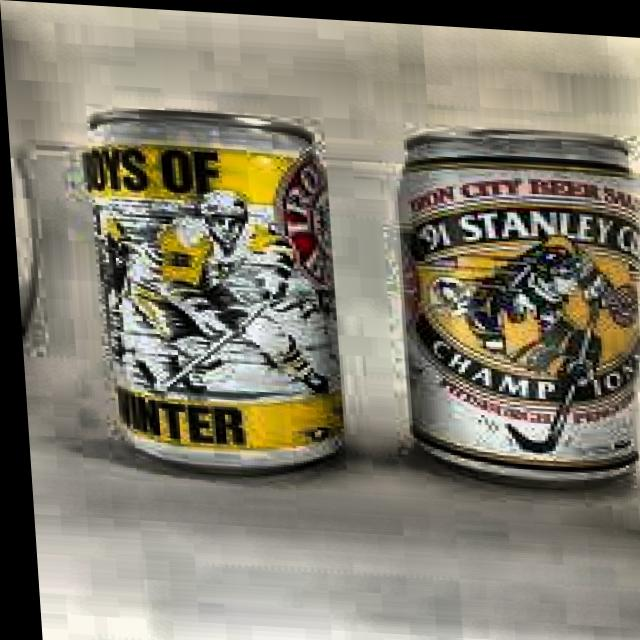can: (75, 96, 351, 492), (368, 106, 640, 494)
